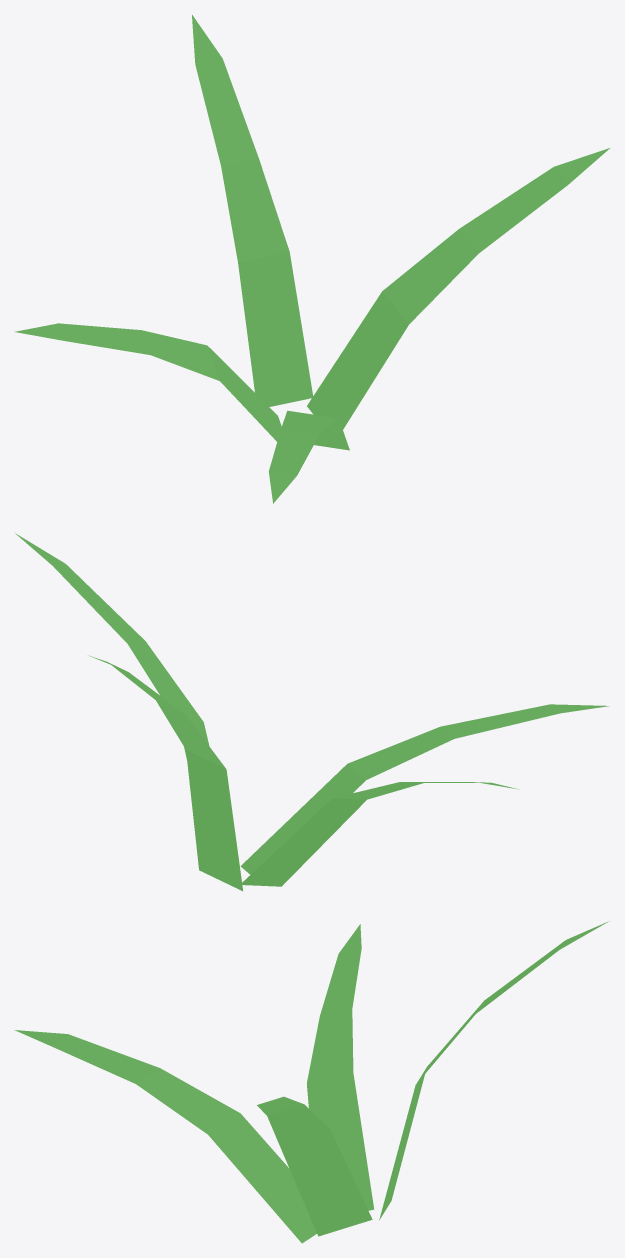
The model's file is grass.glb.
The picture shows the model from 3 angles, top to bottom: view 1: azimuth 30°, elevation 25°; view 2: azimuth 150°, elevation 25°; view 3: azimuth 270°, elevation 25°; orthographic projection.
Parts seen in each view (by area): view 1: Plane; view 2: Plane; view 3: Plane.
Boxes of the visible parts, bbox=[...] form: Plane: bbox=[14, 15, 609, 503]; Plane: bbox=[15, 533, 609, 891]; Plane: bbox=[14, 921, 608, 1243].
Bounding box in the file's own units: 1.72 × 0.9783 × 1.63.
